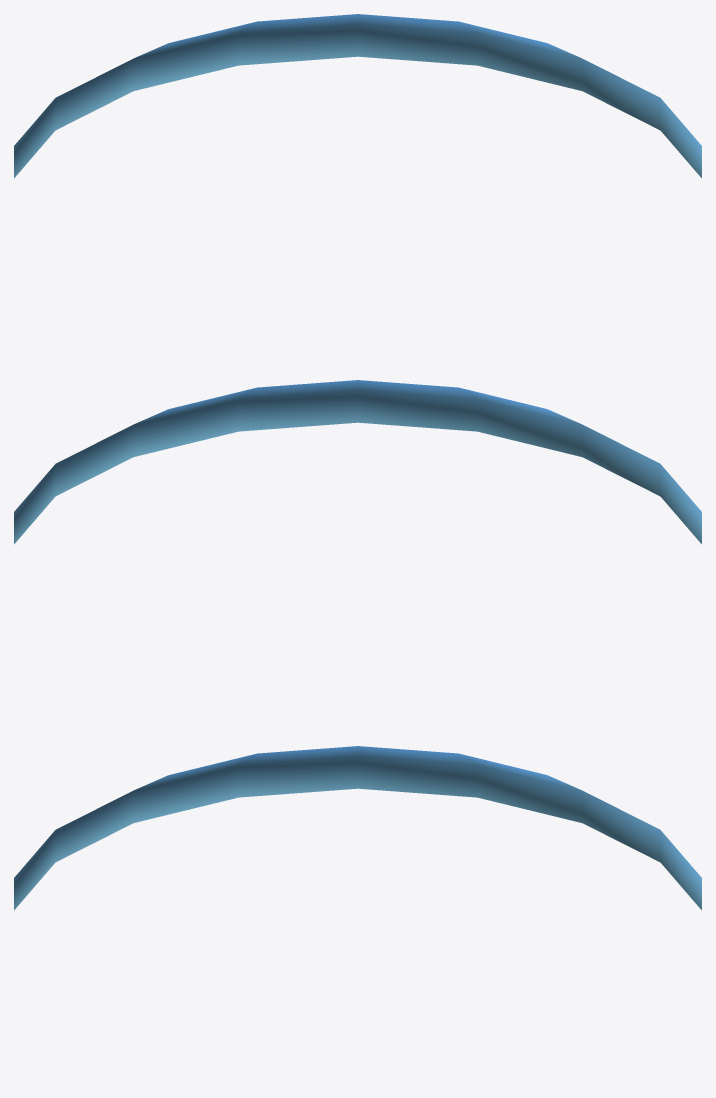
Rendered from kd_stage_1366d7_22_0_bounded.glb.
3 views of the same model, one above another, from view 1: azimuth 30°, elevation 25°; view 2: azimuth 150°, elevation 25°; view 3: azimuth 270°, elevation 25° (orthographic).
Parts seen in each view (by area): view 1: kd_stage_1366d7_22_0_bounded; view 2: kd_stage_1366d7_22_0_bounded; view 3: kd_stage_1366d7_22_0_bounded.
Boxes of the visible parts, <box> form: kd_stage_1366d7_22_0_bounded: <box>14,14,701,178</box>; kd_stage_1366d7_22_0_bounded: <box>14,380,701,544</box>; kd_stage_1366d7_22_0_bounded: <box>14,746,701,910</box>.
Size of the model in its own units: 25448 by 4379 by 25061.
1 material, 1 textured.
